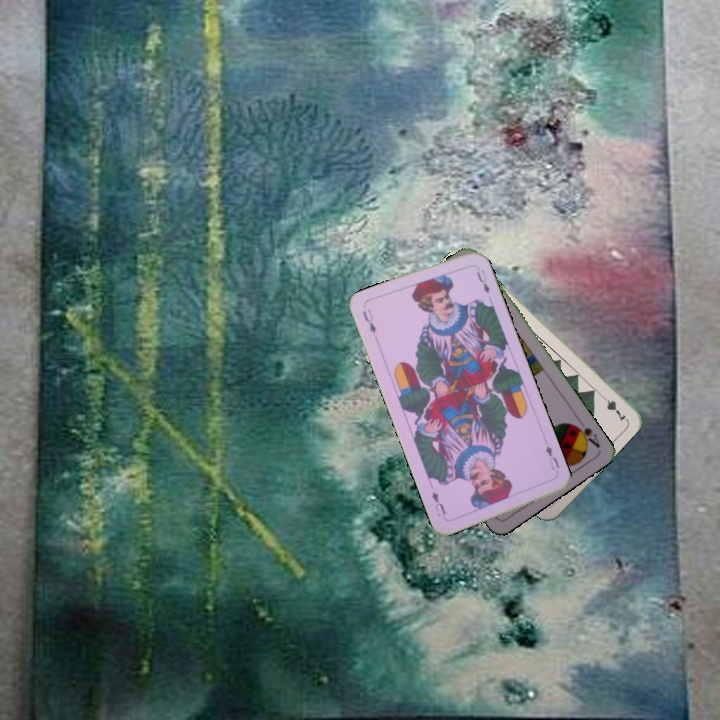EU: (358, 305, 379, 336), (542, 441, 562, 473)
G7: (596, 389, 629, 423)
SA: (569, 420, 603, 451)
